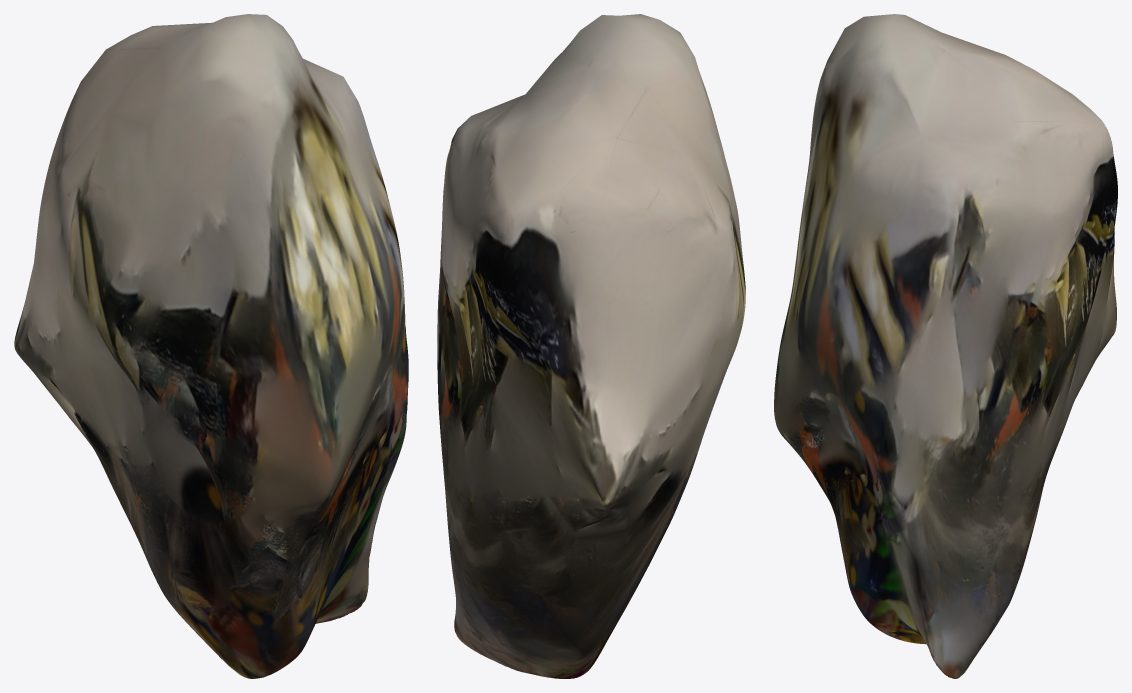
The picture shows the model from 3 angles, left to right: view 1: azimuth 30°, elevation 25°; view 2: azimuth 150°, elevation 25°; view 3: azimuth 270°, elevation 25°; orthographic projection. The views are drawn at different scales.
Bounding box in the file's own units: 0.1297 × 0.2676 × 0.1356.
Materials: 1 (1 with a texture image).
